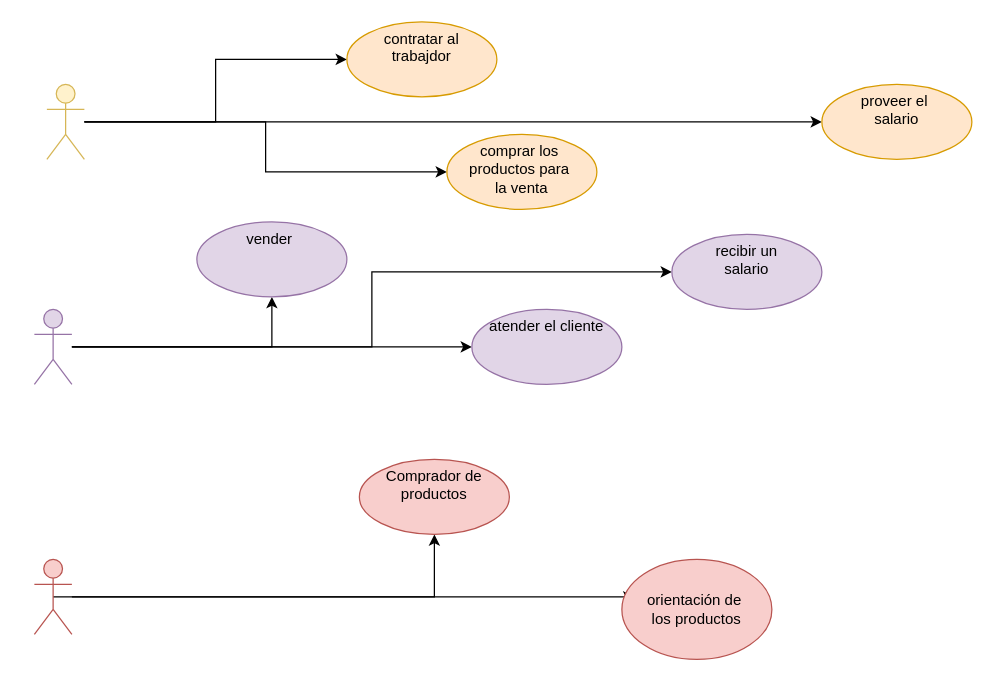
Image size: 994x683. Some labels were removed from this diagram. Each missing label, with the centre of its shape:
"admin" goes at (65,121).
"cliente" goes at (52,596).
"trabajdor" goes at (52,346).
